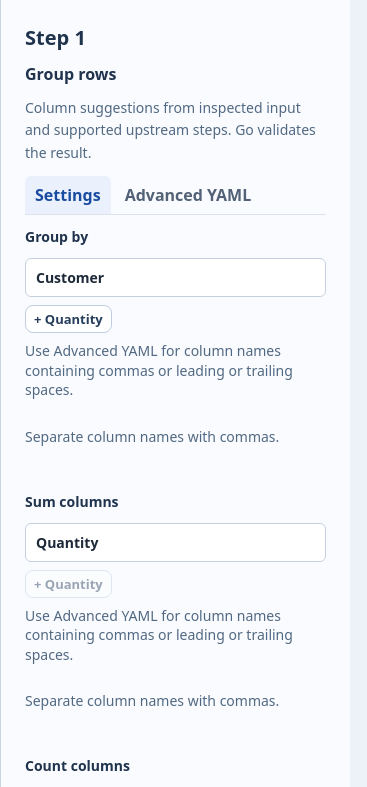
it: does not offer column names the comma-separated editor cannot represent
Click the button "Advanced YAML" at {"x": 188, "y": 195}, box [115, 176, 261, 214]
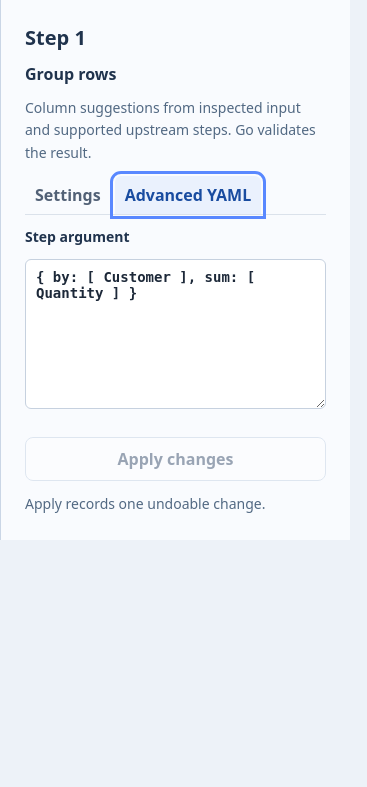
expect the text box labelled "Step argument" is shown: met, box [25, 259, 326, 409]
